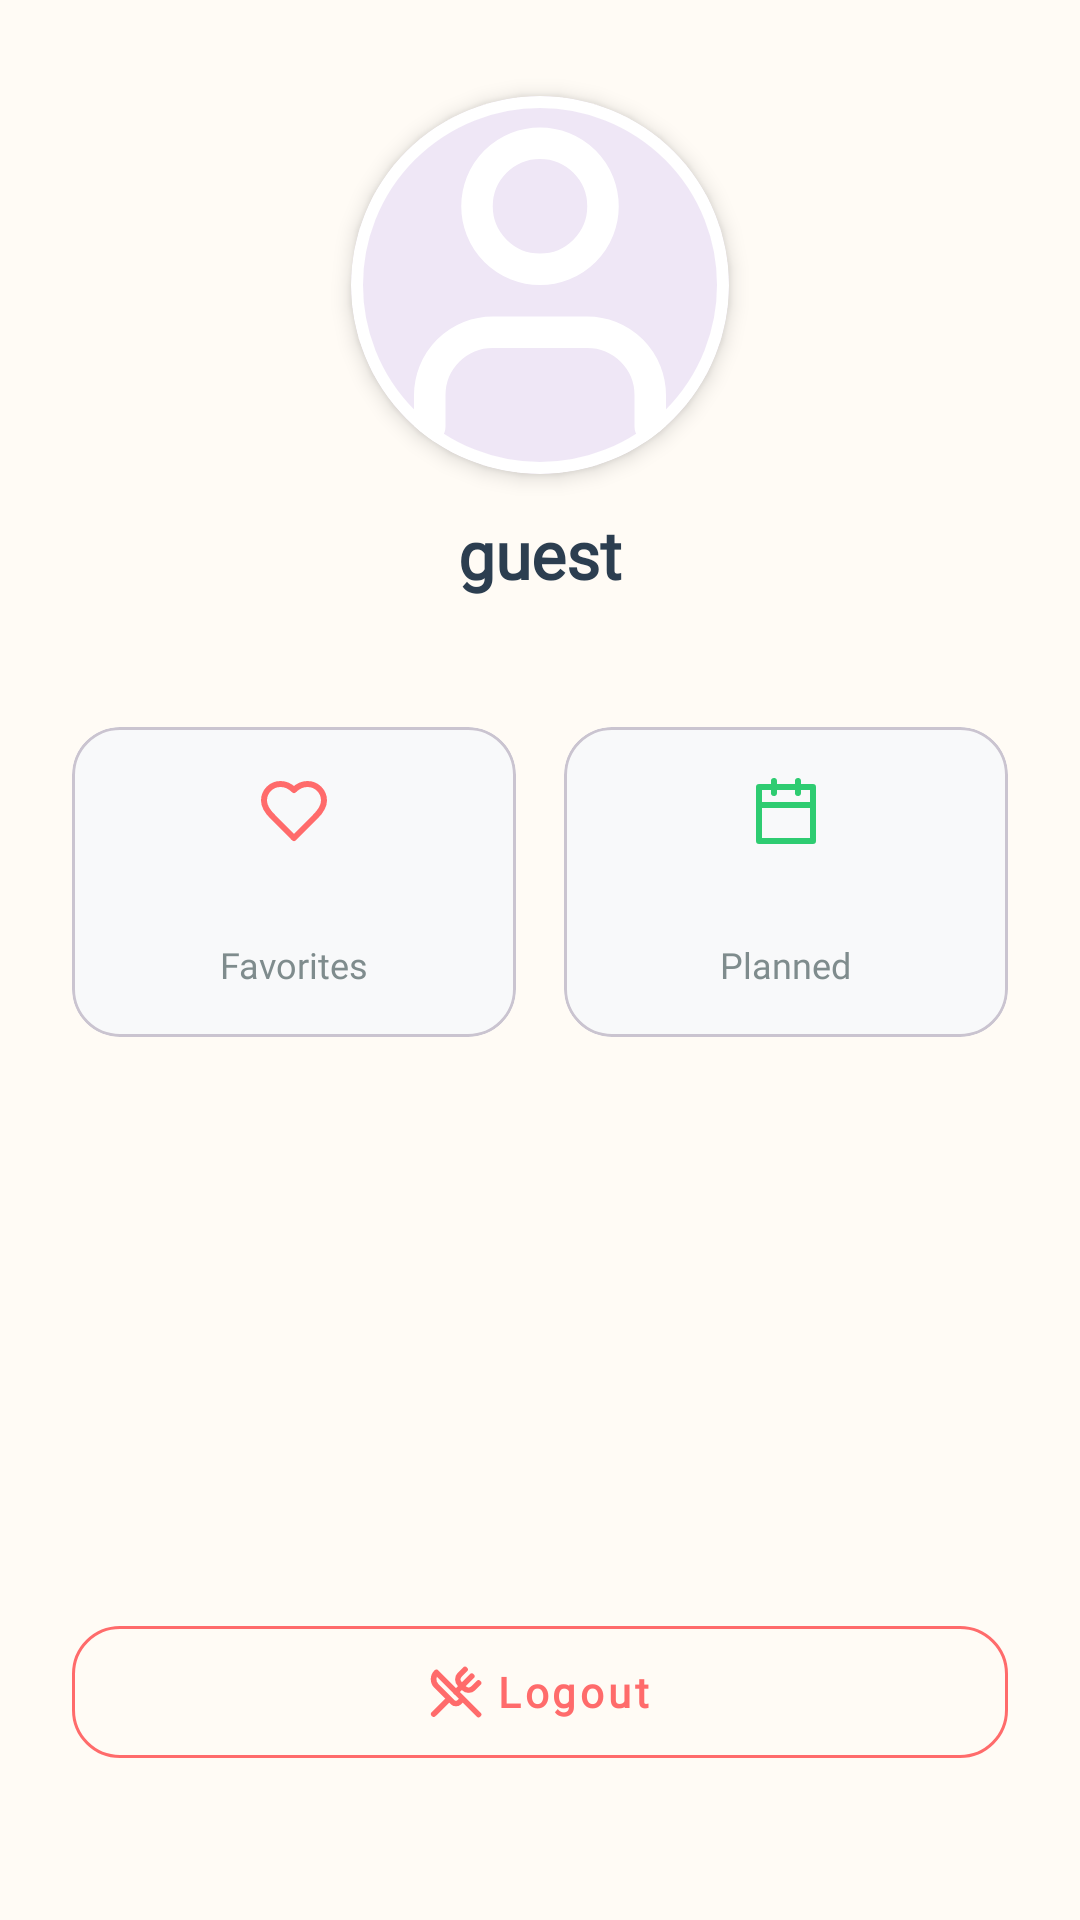

Icon click points for this 1080px x 1920px phone screenshot, format point (x, y):
calendar: point (786, 811)
heart: point (294, 811)
